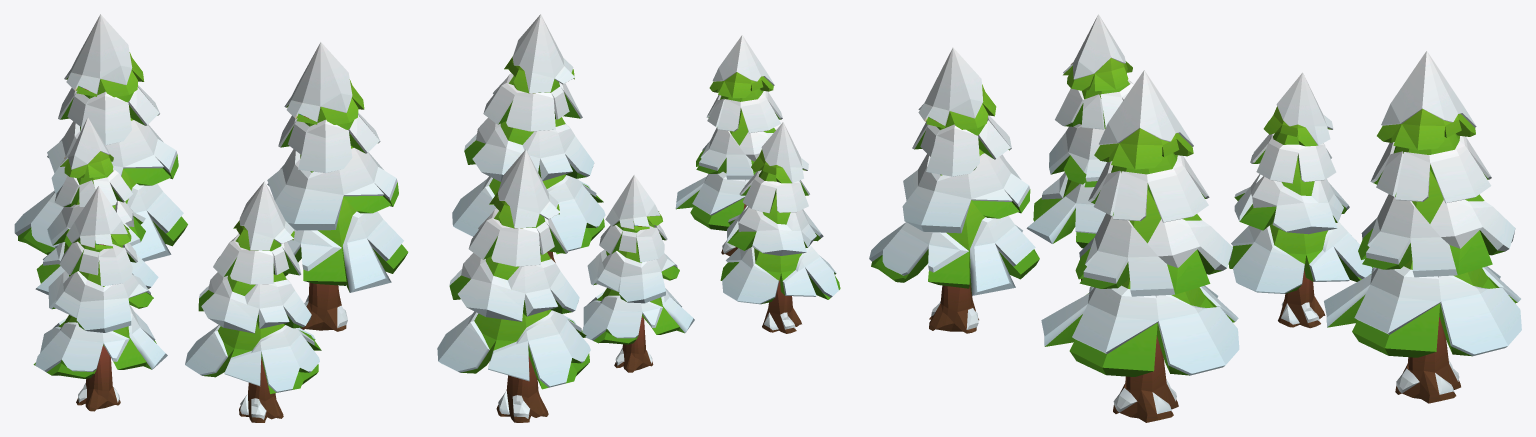
3 views of the same model, side by side, from view 1: azimuth 30°, elevation 25°; view 2: azimuth 150°, elevation 25°; view 3: azimuth 270°, elevation 25° (orthographic). The views are drawn at different scales.
Parts seen in each view (by area): view 1: SnowyTree (6), SnowyTree (7), SnowyTree (9), SnowyTree (10), SnowyTree (8); view 2: SnowyTree (9), SnowyTree (6), SnowyTree (10), SnowyTree (8), SnowyTree (7); view 3: SnowyTree (9), SnowyTree (6), SnowyTree (7), SnowyTree (8), SnowyTree (10).
Boxes of the visible parts, left/top/right/bottom form: SnowyTree (6): left=267, top=42, right=408, bottom=331; SnowyTree (7): left=185, top=181, right=321, bottom=422; SnowyTree (9): left=14, top=14, right=187, bottom=261; SnowyTree (10): left=33, top=186, right=167, bottom=411; SnowyTree (8): left=35, top=117, right=158, bottom=294; SnowyTree (9): left=437, top=149, right=590, bottom=422; SnowyTree (6): left=452, top=14, right=605, bottom=262; SnowyTree (10): left=720, top=122, right=840, bottom=333; SnowyTree (8): left=582, top=175, right=694, bottom=372; SnowyTree (7): left=675, top=35, right=798, bottom=256; SnowyTree (9): left=1324, top=51, right=1521, bottom=403; SnowyTree (6): left=1041, top=70, right=1239, bottom=422; SnowyTree (7): left=869, top=47, right=1039, bottom=333; SnowyTree (8): left=1228, top=72, right=1372, bottom=328; SnowyTree (10): left=1026, top=14, right=1133, bottom=280.
Bounding box in the file's own units: 12.62 × 10.15 × 15.87.
Materials: 1 (1 with a texture image).
